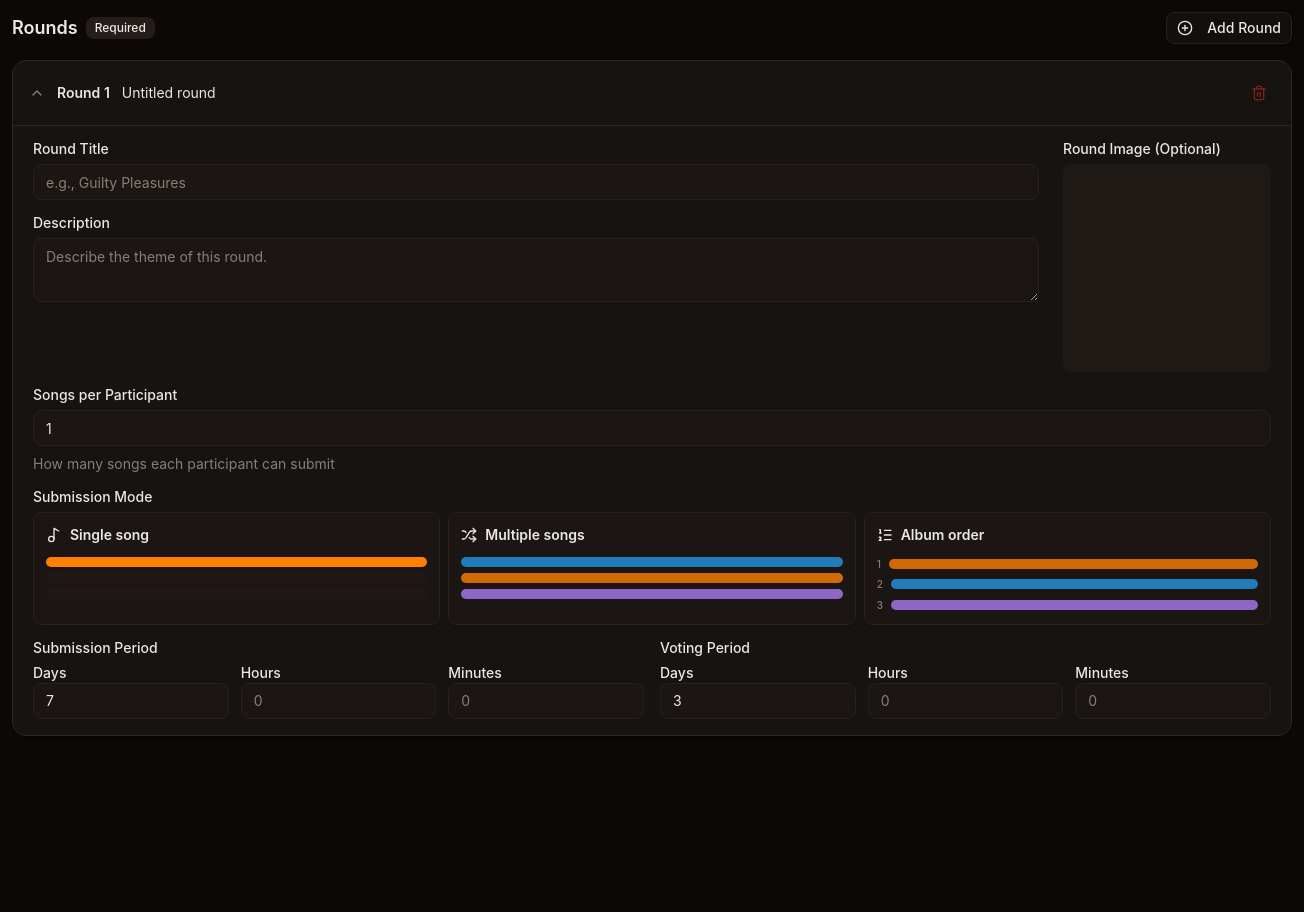
Test: LeagueRoundsSection › expands only the newly added round
What coordinates should you click on to do the following:
click the button "Add Round"
I would click on:
 (1229, 28)
Its box is [1166, 12, 1292, 44].
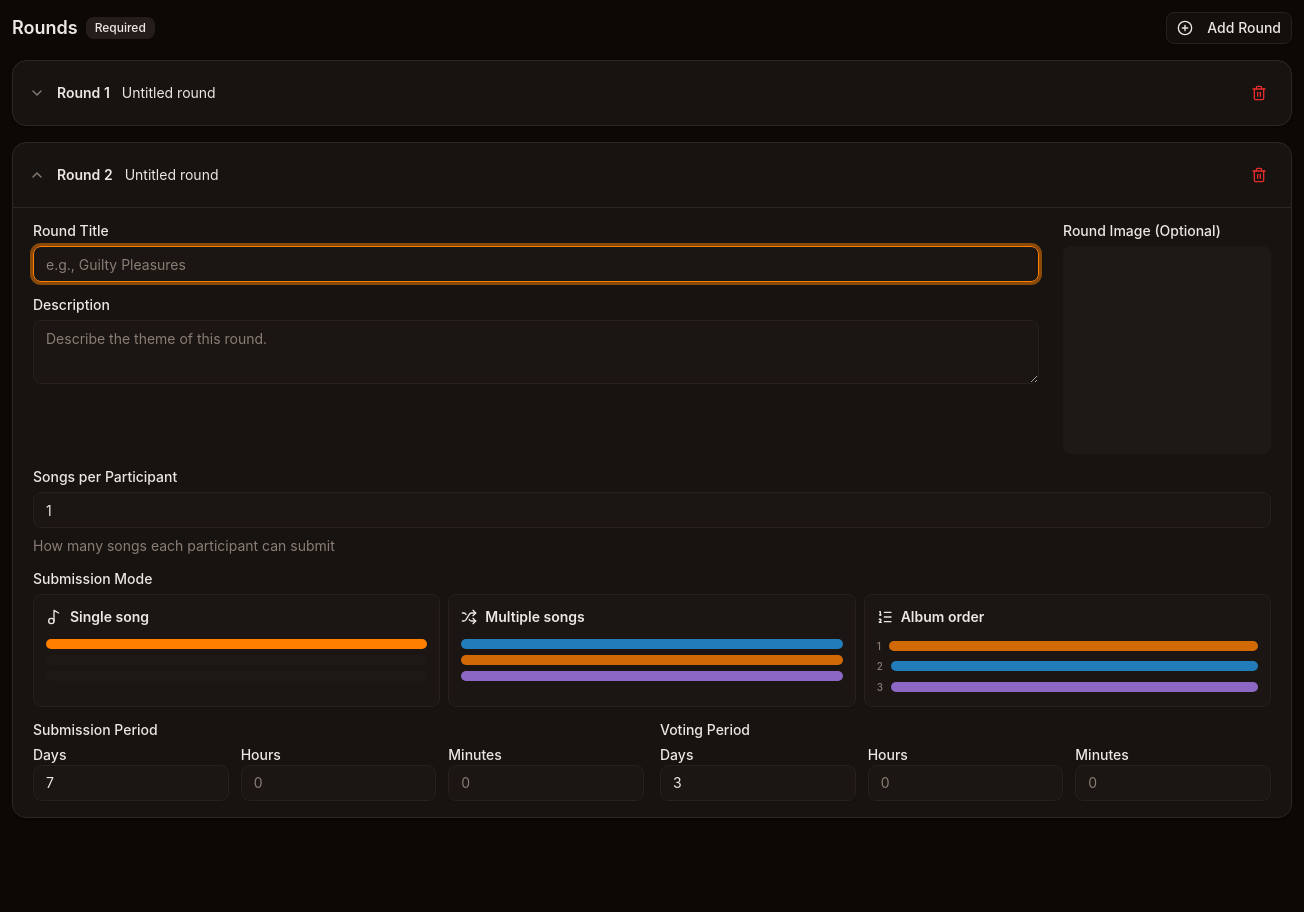
Now the button with aria-label "Round 1 - Untitled round" is collapsed
Now the number of fields labelled "Round Title" is 1, box [33, 246, 1039, 282]
What coordinates should you click on to do the following:
click the button with aria-label "Round 1 - Untitled round"
I would click on:
 (80, 92)
Its box is [29, 83, 1235, 103].
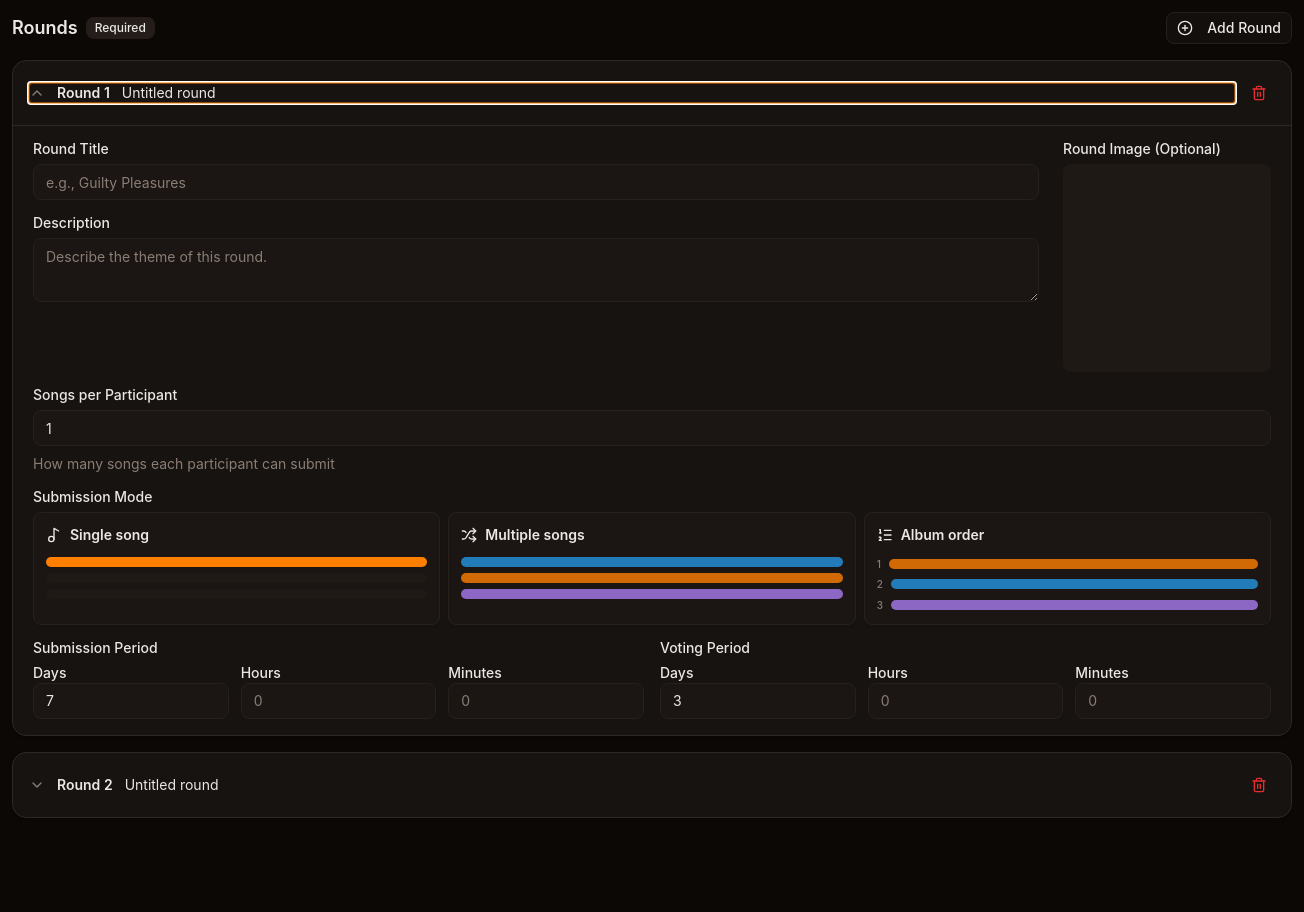
Now the button with aria-label "Round 1 - Untitled round" is expanded, box [29, 83, 1235, 103]
Now the button with aria-label "Round 2 - Untitled round" is collapsed, box [29, 775, 1235, 795]
